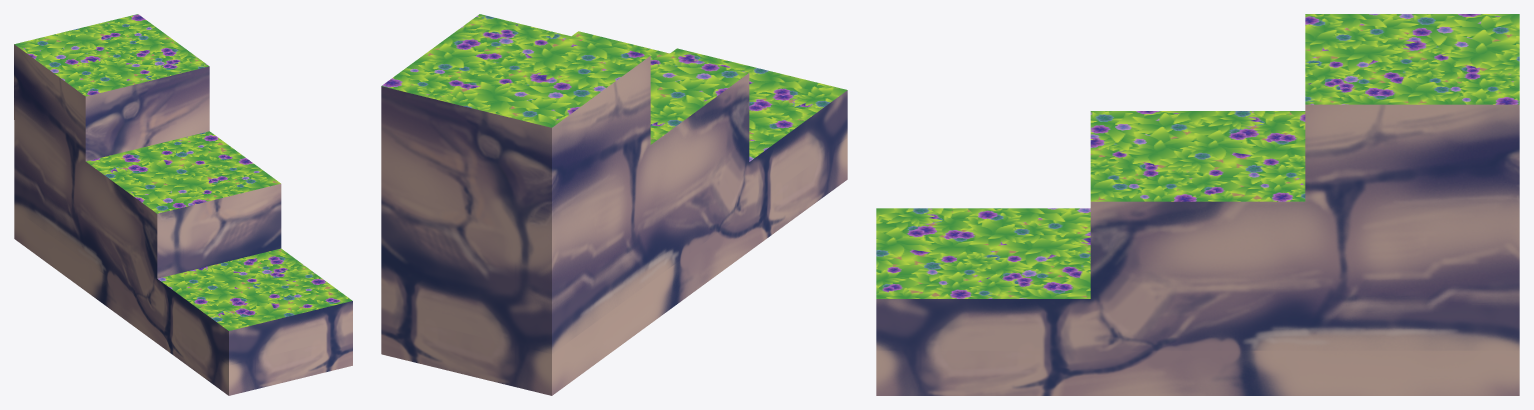
Rendered from block_02.fbx.
3 views of the same model, side by side, from view 1: azimuth 30°, elevation 25°; view 2: azimuth 150°, elevation 25°; view 3: azimuth 270°, elevation 25° (orthographic). The views are drawn at different scales.
Parts seen in each view (by area): view 1: Block_02; view 2: Block_02; view 3: Block_02.
Boxes of the visible parts, left/top/right/bottom form: Block_02: left=14, top=14, right=352, bottom=395; Block_02: left=381, top=14, right=847, bottom=395; Block_02: left=876, top=14, right=1519, bottom=395.
Bounding box in the file's own units: 400 × 600 × 1200.
2 materials, 2 textured.
